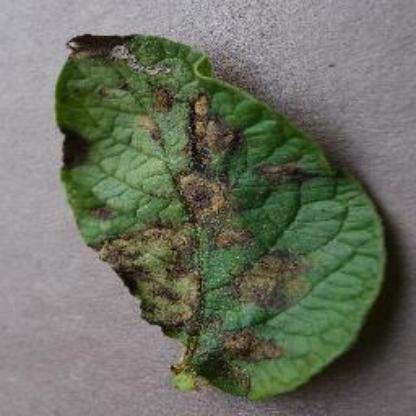Late-Blight: (47, 21, 391, 415)
